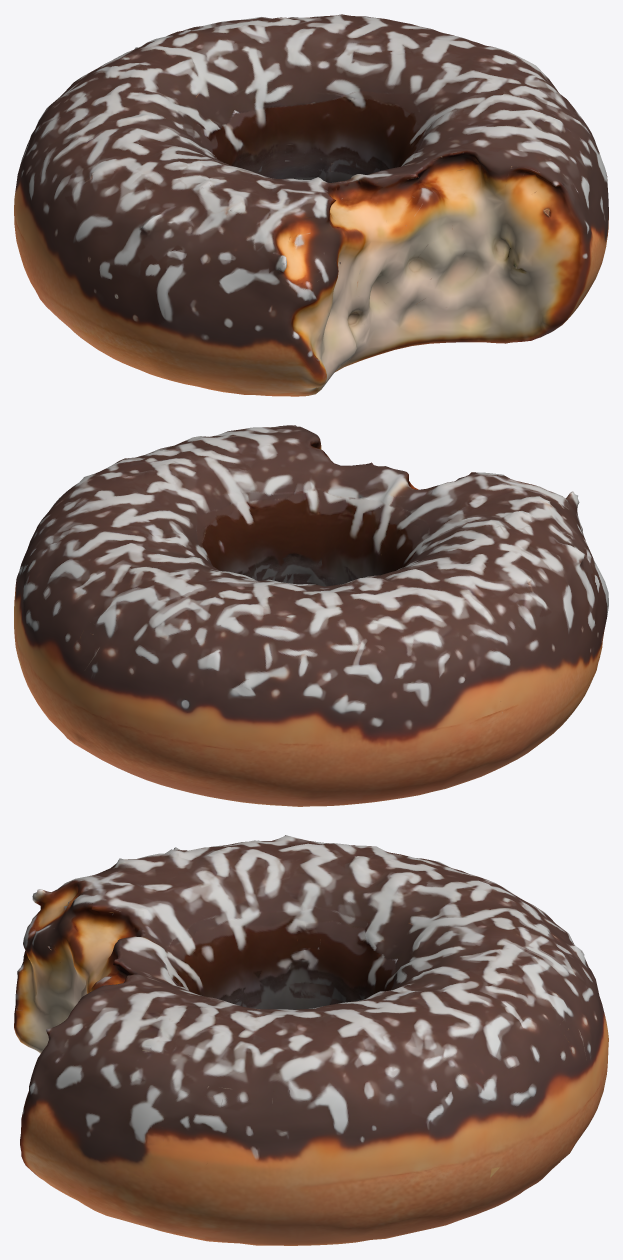
File: Meshy_AI_donut_0102212747_texture.fbx
3 views of the same model, one above another, from view 1: azimuth 30°, elevation 25°; view 2: azimuth 150°, elevation 25°; view 3: azimuth 270°, elevation 25° (orthographic). The views are drawn at different scales.
Parts seen in each view (by area): view 1: Mesh0; view 2: Mesh0; view 3: Mesh0.
Boxes of the visible parts, <box> form: Mesh0: <box>14,14,608,396</box>; Mesh0: <box>14,425,608,806</box>; Mesh0: <box>14,835,608,1245</box>.
Bounding box in the file's own units: 190 × 71.83 × 180.
Materials: 1 (1 with a texture image).
